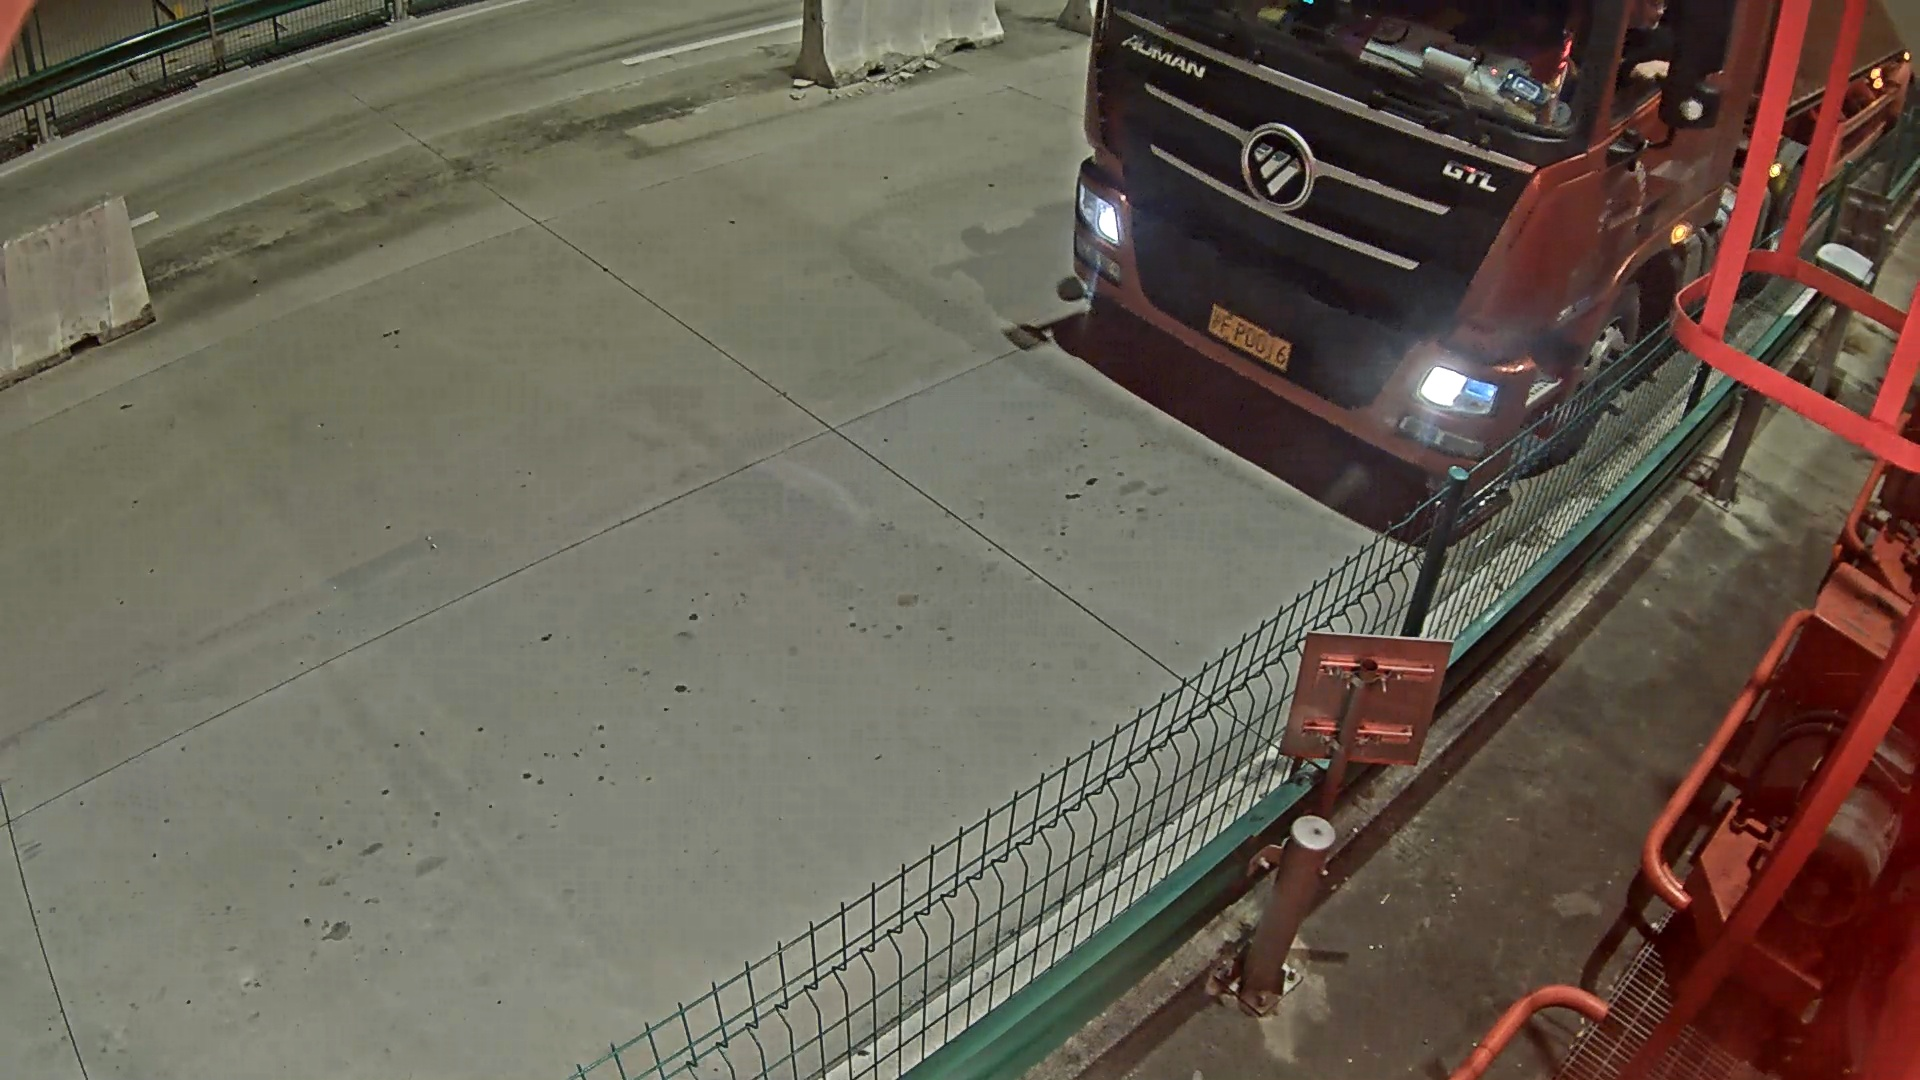head: (1077, 10, 1614, 494)
plate: (1205, 302, 1305, 385)
